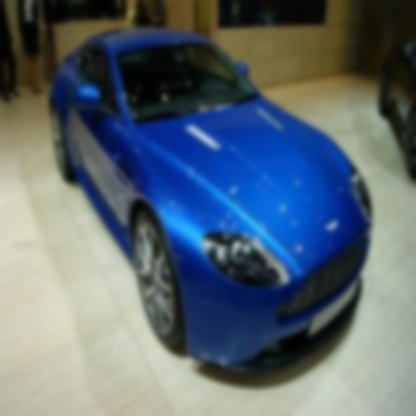Vehicle: (47, 26, 374, 381)
